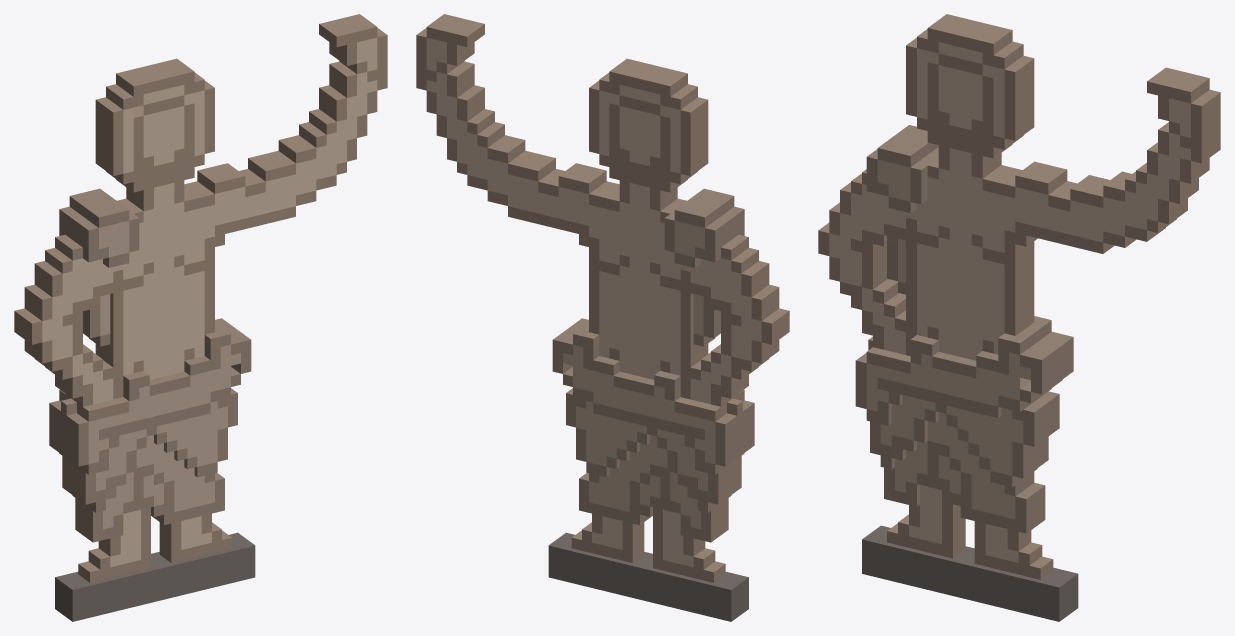
The model's file is PoseidonOfMelosFinal.fbx.
The picture shows the model from 3 angles, left to right: view 1: azimuth 30°, elevation 25°; view 2: azimuth 150°, elevation 25°; view 3: azimuth 330°, elevation 25°; orthographic projection. The views are drawn at different scales.
Visible parts, largest first — view 1: generated; view 2: generated; view 3: generated.
Boxes of the visible parts, left/top/right/bottom form: generated: left=14, top=14, right=387, bottom=621; generated: left=416, top=14, right=789, bottom=621; generated: left=818, top=14, right=1220, bottom=621.
Bounding box in the file's own units: 35 × 49 × 5.
